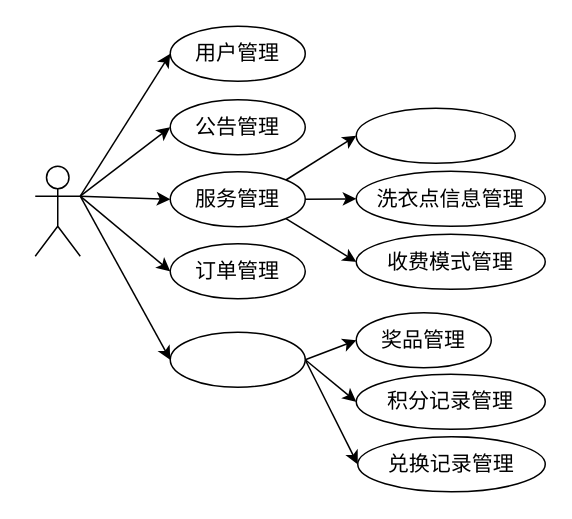
The diagram is 572 pixels wide and 519 high, and some of its shapes have lost their labels. Here are the shapes that lost their labels. From the top down, the centre of each, then its label:
At pixel 435 135: "服务类型管理".
At pixel 57 210: "管理员".
At pixel 237 359: "积分管理".
